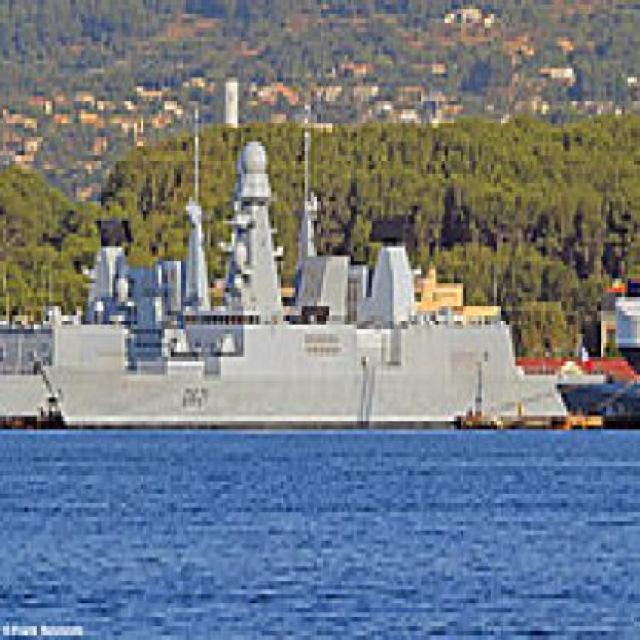warship2: (47, 107, 587, 441)
